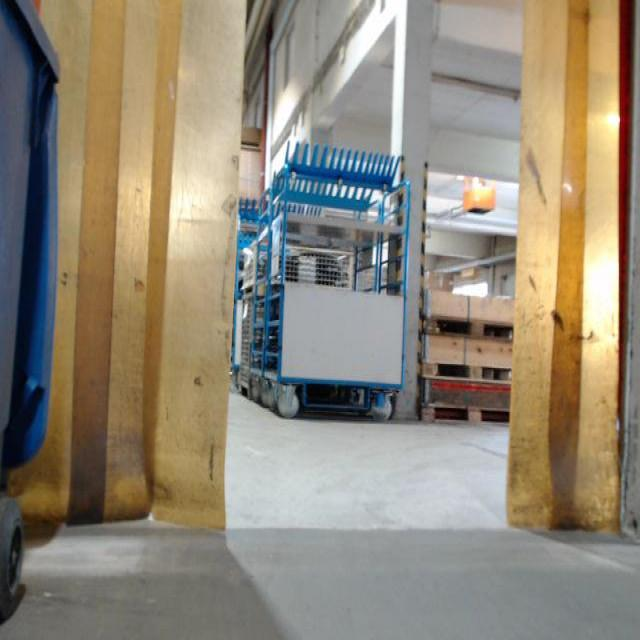pallet: (420, 313, 514, 343), (413, 400, 510, 426), (419, 360, 513, 386)
stillage: (242, 236, 356, 291), (235, 292, 255, 400)
